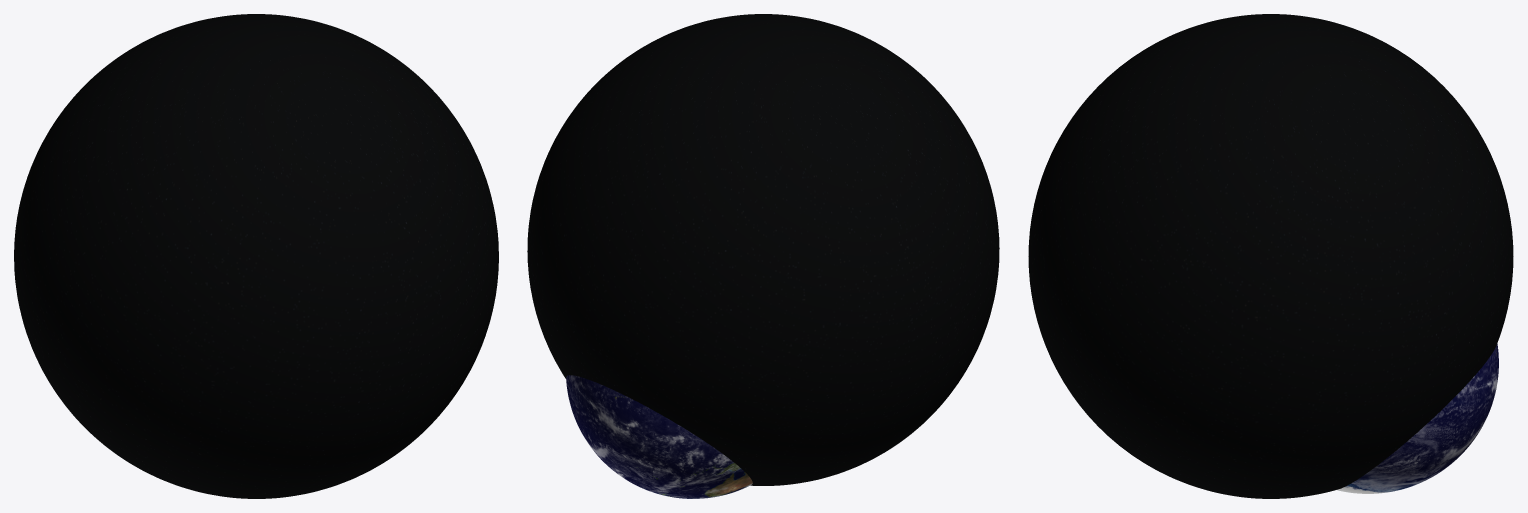
The model's file is Space.fbx.
3 views of the same model, side by side, from view 1: azimuth 30°, elevation 25°; view 2: azimuth 150°, elevation 25°; view 3: azimuth 270°, elevation 25° (orthographic). The views are drawn at different scales.
Visible parts, largest first — view 1: Space_Panorama; view 2: Space_Panorama, Earth; view 3: Space_Panorama, Earth.
Part boxes in pixels (bbox=[...]): Space_Panorama: bbox=[14, 14, 498, 498]; Space_Panorama: bbox=[527, 14, 999, 485]; Earth: bbox=[566, 375, 752, 498]; Space_Panorama: bbox=[1028, 14, 1513, 498]; Earth: bbox=[1337, 344, 1498, 493].
Bounding box in the file's own units: 5000 × 5000 × 5000.
13 materials, 13 textured.
